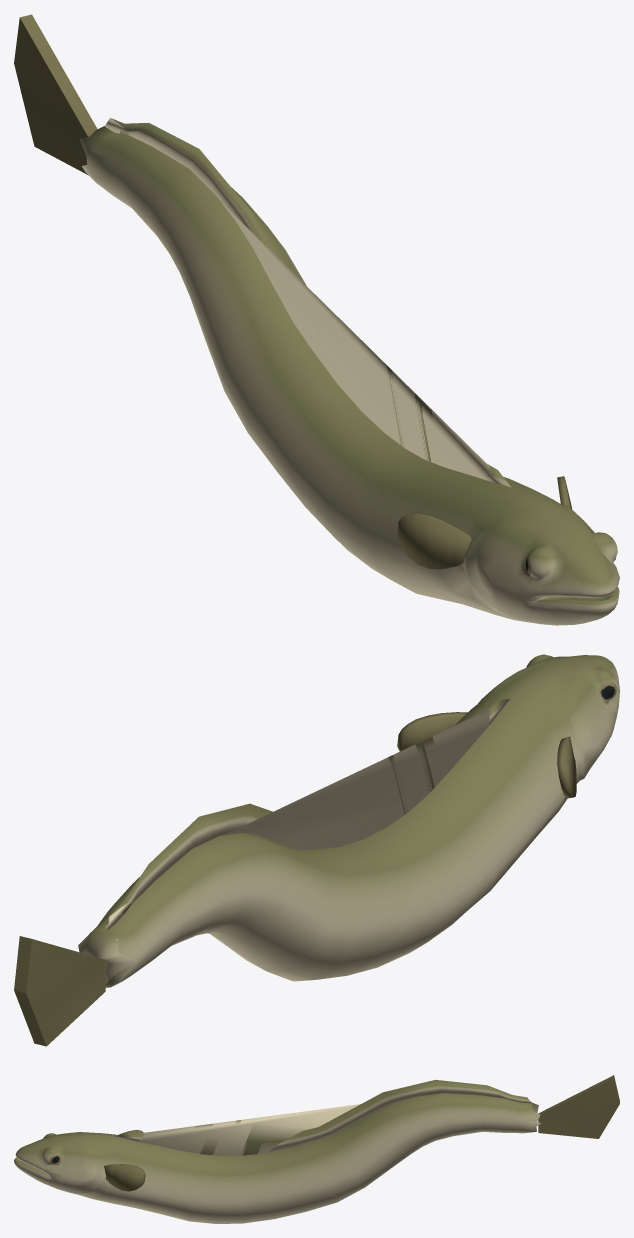
The model's file is fish_long.fbx.
3 renders of one model, top to bottom at view 1: azimuth 30°, elevation 25°; view 2: azimuth 150°, elevation 25°; view 3: azimuth 270°, elevation 25°, orthographic. The views are drawn at different scales.
Parts seen in each view (by area): view 1: fish_long; view 2: fish_long; view 3: fish_long.
Boxes of the visible parts, x1,y1,x2,y2 form: fish_long: [14, 14, 619, 625]; fish_long: [14, 654, 619, 1046]; fish_long: [14, 1075, 619, 1223].
Size of the model in its own units: 0.0925 by 0.1458 by 0.55.
Materials: 1 (1 with a texture image).
